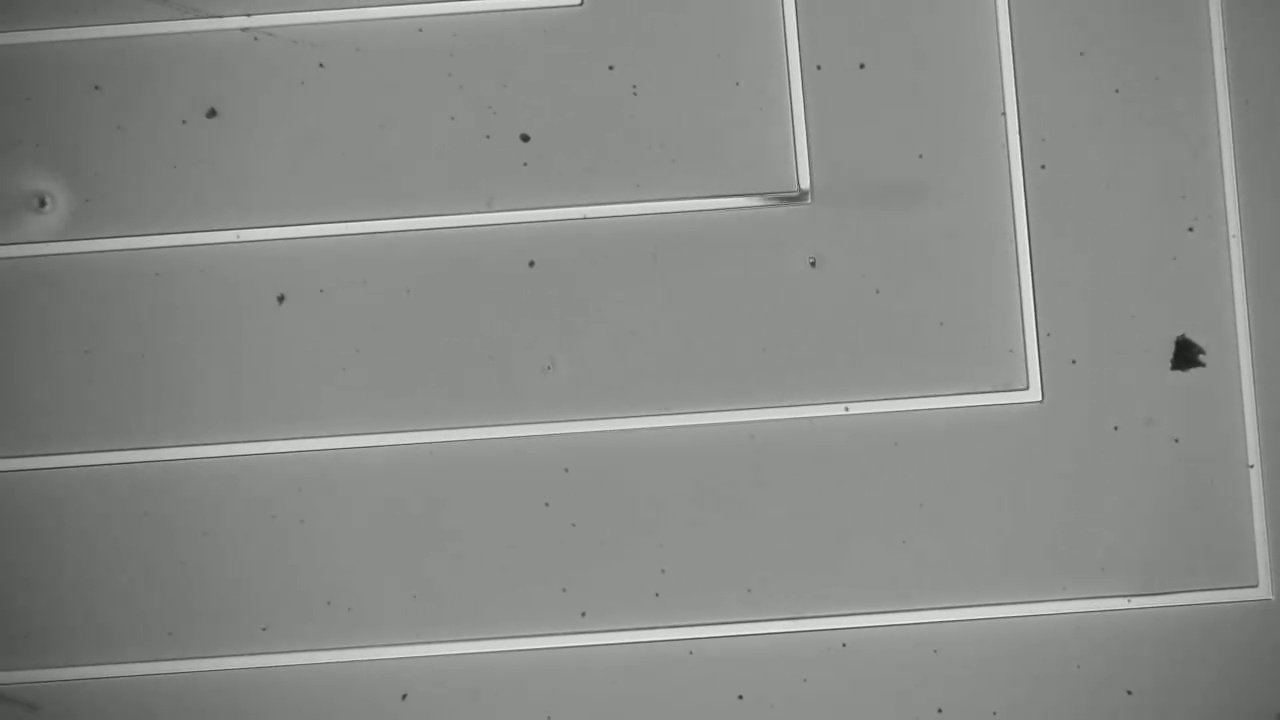gray_line: (748, 182, 822, 221)
